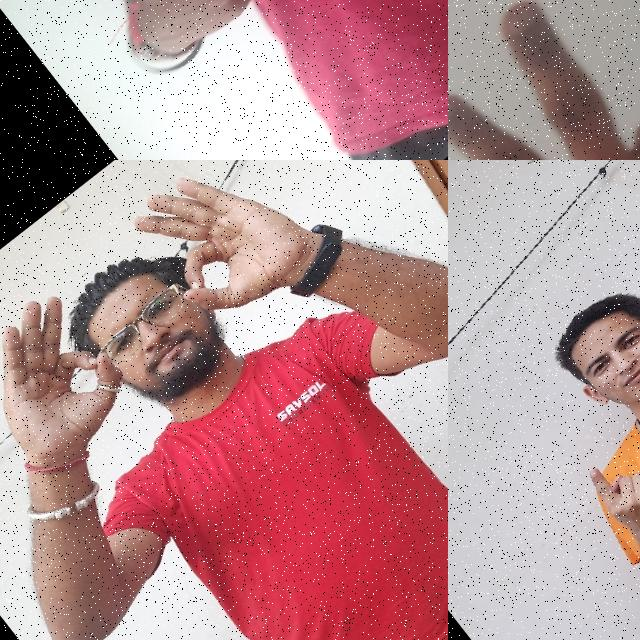Corna: (568, 422, 640, 548)
Five Fathers: (63, 0, 448, 89)
Okay: (105, 160, 348, 363), (0, 274, 159, 495)
Reversed Victory: (448, 0, 640, 160)
